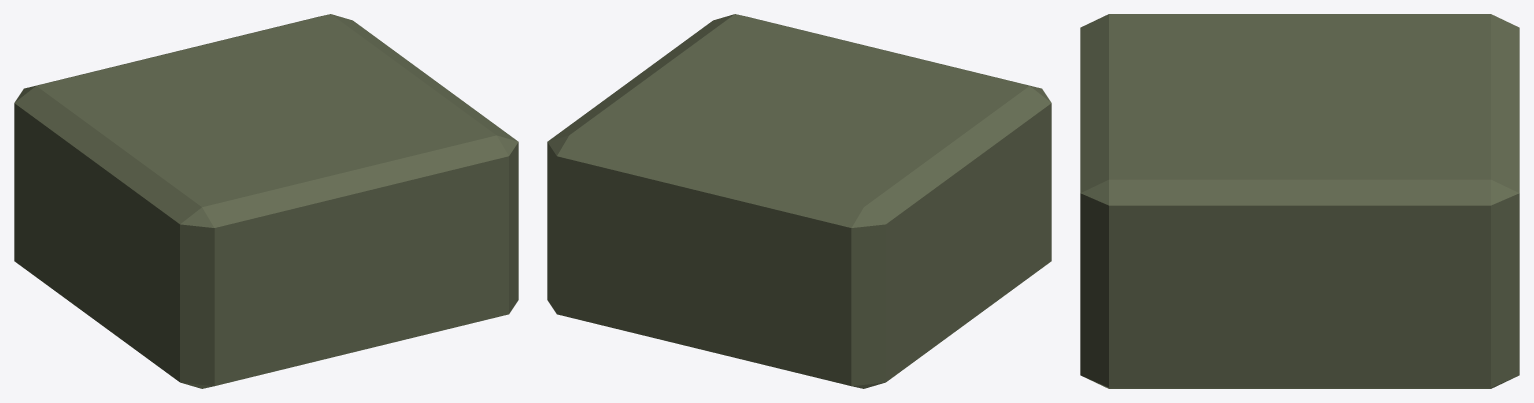
The model's file is cliffFaces.obj.
3 views of the same model, side by side, from view 1: azimuth 30°, elevation 25°; view 2: azimuth 150°, elevation 25°; view 3: azimuth 270°, elevation 25° (orthographic). The views are drawn at different scales.
Visible parts, largest first — view 1: cliffFaces; view 2: cliffFaces; view 3: cliffFaces.
Part boxes in pixels (<box>): cliffFaces: <box>14,14,518,388</box>; cliffFaces: <box>547,14,1051,388</box>; cliffFaces: <box>1080,14,1519,388</box>.
Bounding box in the file's own units: 1.95 × 1 × 1.9.
Materials: 1 (1 with a texture image).
